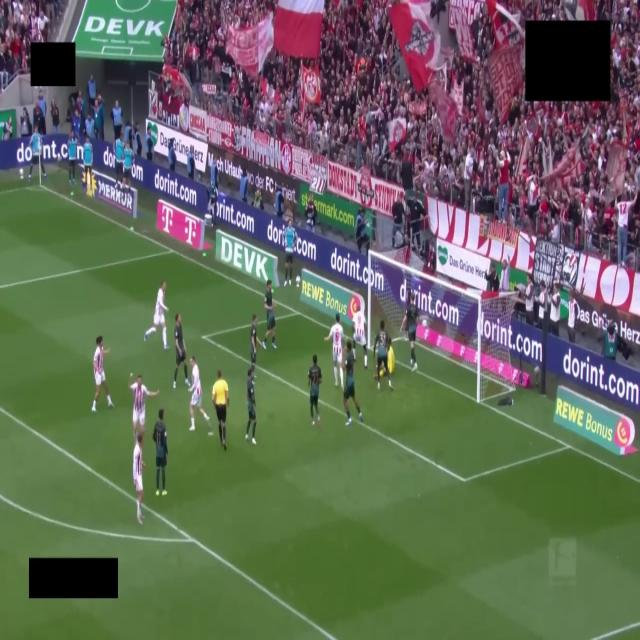player: (129, 373, 158, 437), (343, 341, 363, 425), (92, 336, 114, 412), (144, 281, 168, 349), (189, 356, 210, 432), (401, 292, 418, 371), (325, 314, 343, 386), (374, 320, 392, 390), (153, 408, 167, 495), (173, 314, 188, 388), (133, 432, 145, 524), (262, 280, 276, 349), (308, 355, 321, 426), (353, 303, 367, 368), (245, 369, 256, 444), (250, 314, 258, 377)
referee: (212, 370, 228, 450)
